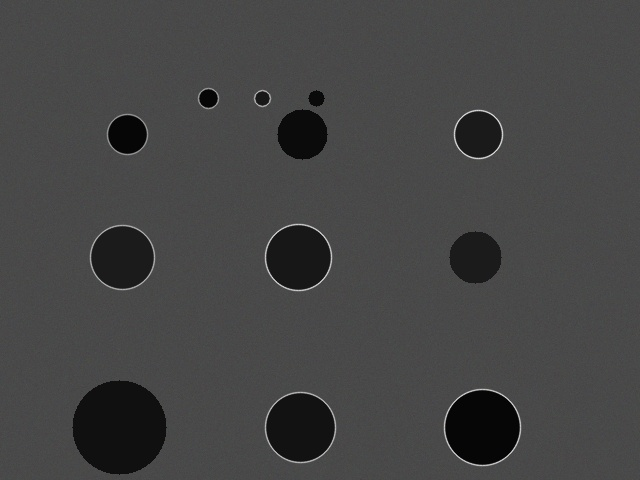hole: (72, 380, 166, 474), (444, 389, 520, 465), (265, 392, 335, 462), (265, 224, 331, 290), (90, 225, 154, 289), (449, 231, 501, 283), (277, 109, 327, 159), (454, 110, 502, 158), (107, 114, 147, 154), (198, 88, 218, 108), (254, 90, 270, 106), (308, 90, 324, 106)
